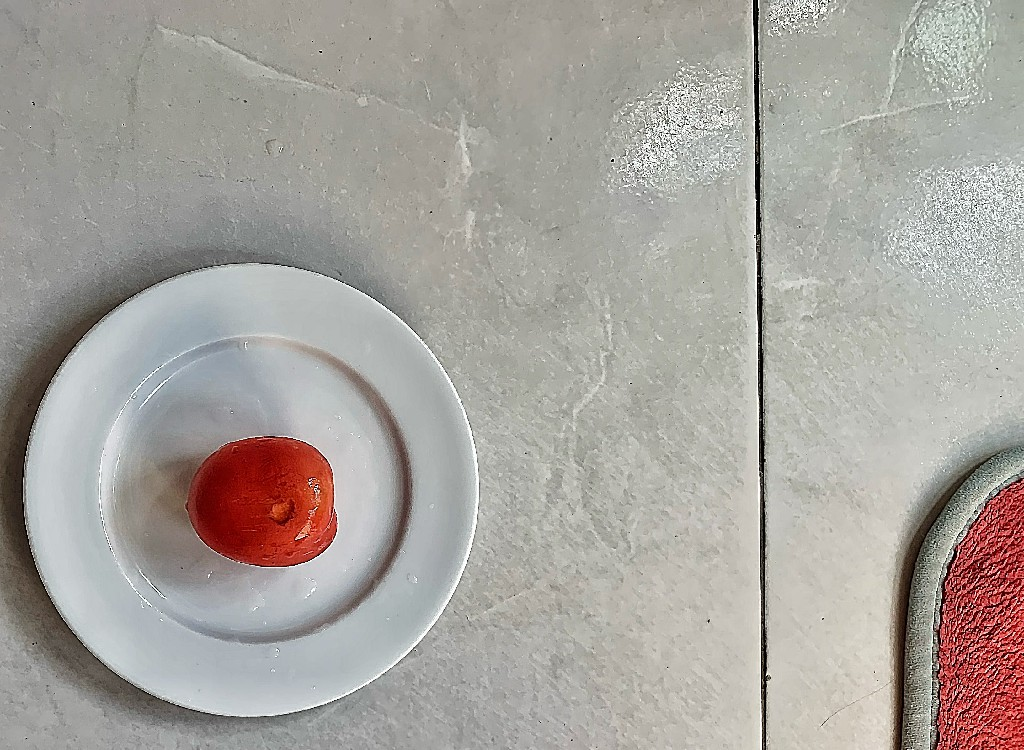NG: (183, 435, 338, 567)
